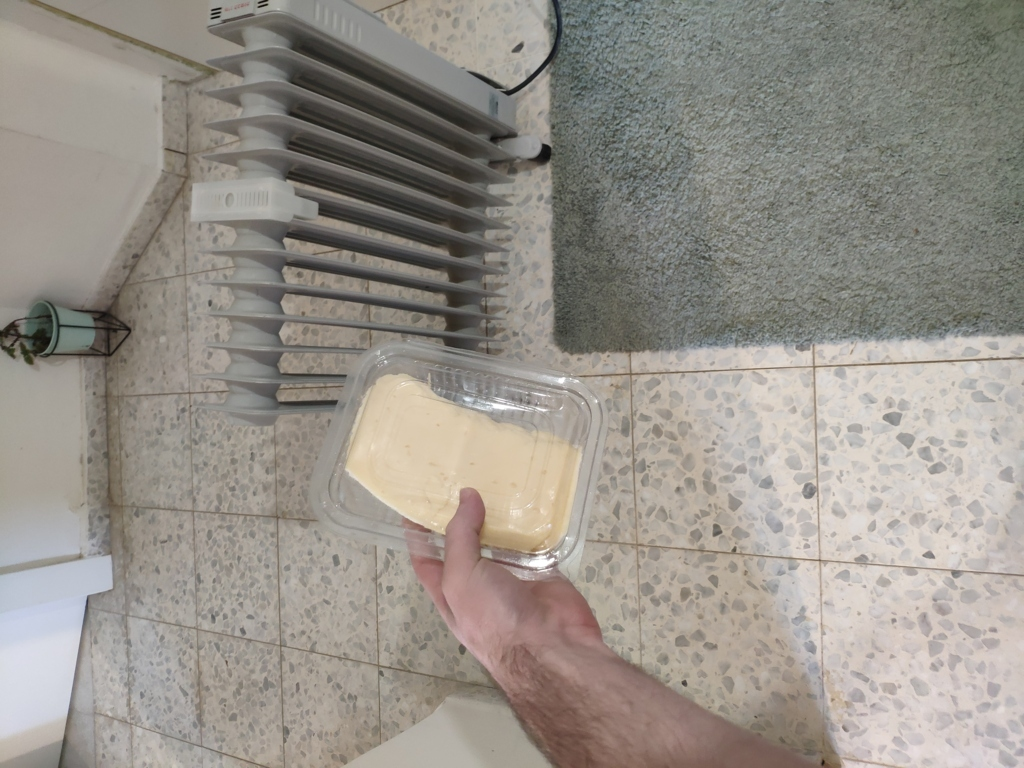Cheese: (319, 366, 599, 564)
